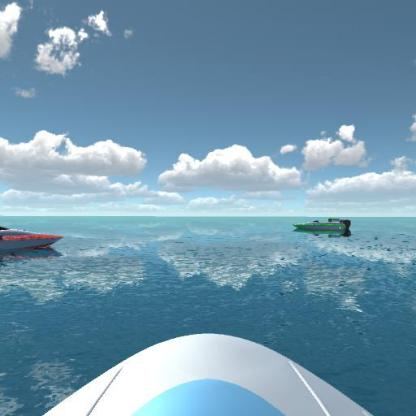usv0: (290, 212, 356, 238)
usv3: (0, 218, 70, 258)
